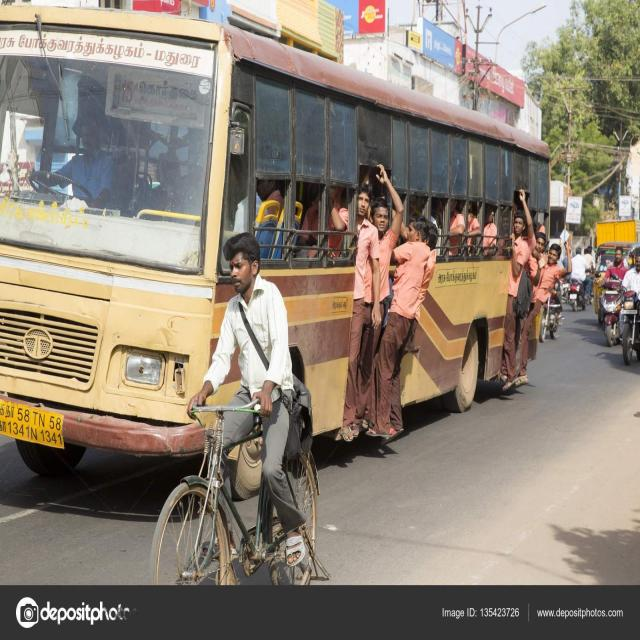bicycle: (151, 233, 322, 584)
bus: (0, 7, 550, 475)
motorcycle: (600, 247, 628, 346), (621, 247, 640, 365)
